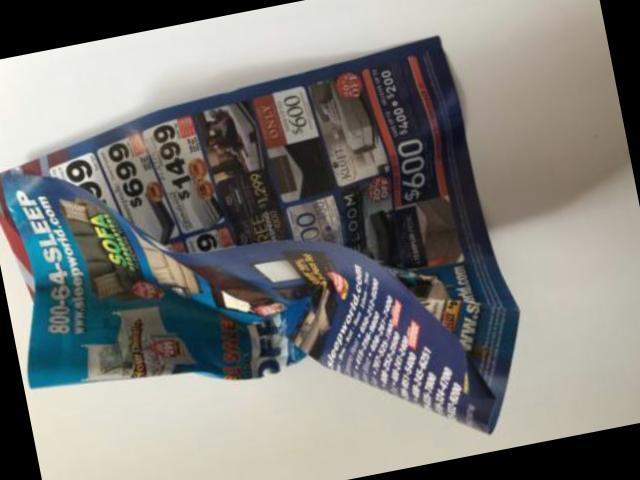cardboard paper: (0, 36, 514, 428)
